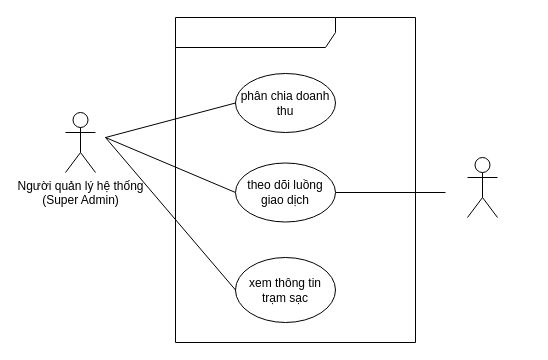
Some shapes in this 548 by 360 pixel diagram are drawn without their labels. The box of each missing label's shape, as (x1, y1, x2, y2) in pixels:
Payment Gateway (Cổng thanh toán): (466, 156, 498, 218)
Quản lý doanh thu và trạm sạc: (174, 16, 416, 342)
